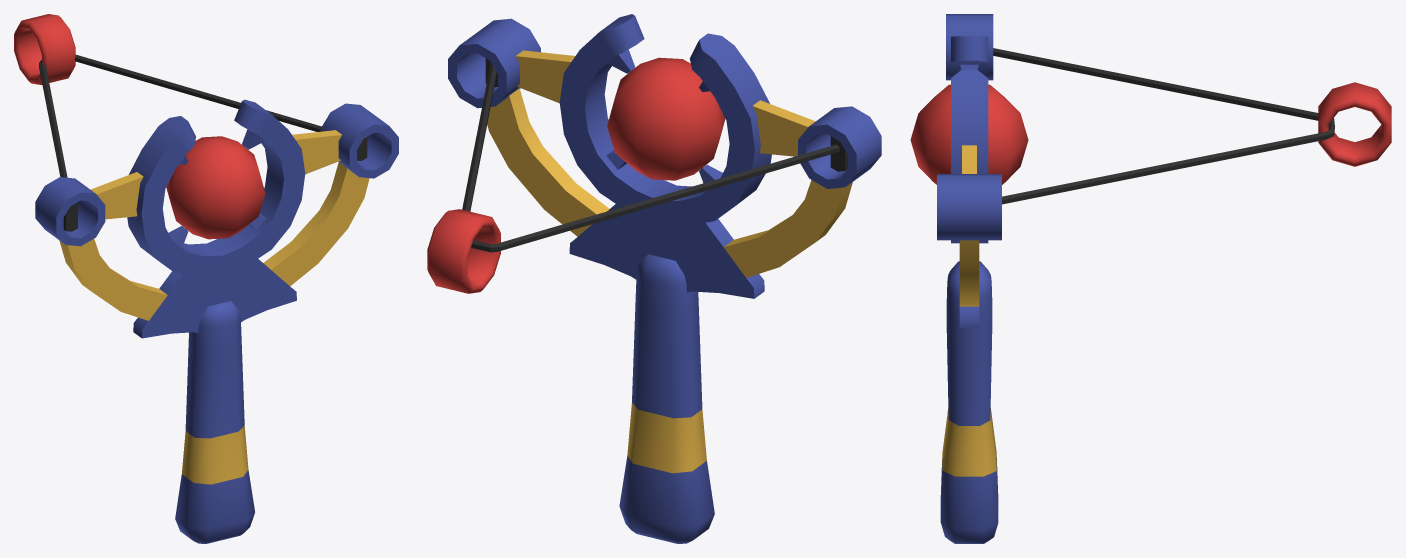
Rendered from Slingshot_01.fbx.
The picture shows the model from 3 angles, left to right: view 1: azimuth 30°, elevation 25°; view 2: azimuth 150°, elevation 25°; view 3: azimuth 270°, elevation 25°; orthographic projection. The views are drawn at different scales.
Parts seen in each view (by area): view 1: Slingshot_01, Slingshot_01_Ball, Slingshot_01_String; view 2: Slingshot_01, Slingshot_01_Ball, Slingshot_01_String; view 3: Slingshot_01, Slingshot_01_String, Slingshot_01_Ball.
Part boxes in pixels (left/top/right/bottom): Slingshot_01: left=35, top=99, right=398, bottom=543; Slingshot_01_Ball: left=166, top=136, right=265, bottom=239; Slingshot_01_String: left=14, top=14, right=321, bottom=177; Slingshot_01: left=448, top=14, right=881, bottom=543; Slingshot_01_Ball: left=607, top=57, right=725, bottom=180; Slingshot_01_String: left=427, top=62, right=839, bottom=293; Slingshot_01: left=937, top=14, right=1001, bottom=543; Slingshot_01_String: left=993, top=48, right=1391, bottom=204; Slingshot_01_Ball: left=910, top=84, right=1028, bottom=184.
Bounding box in the file's own units: 0.2347 × 0.2798 × 0.255.
